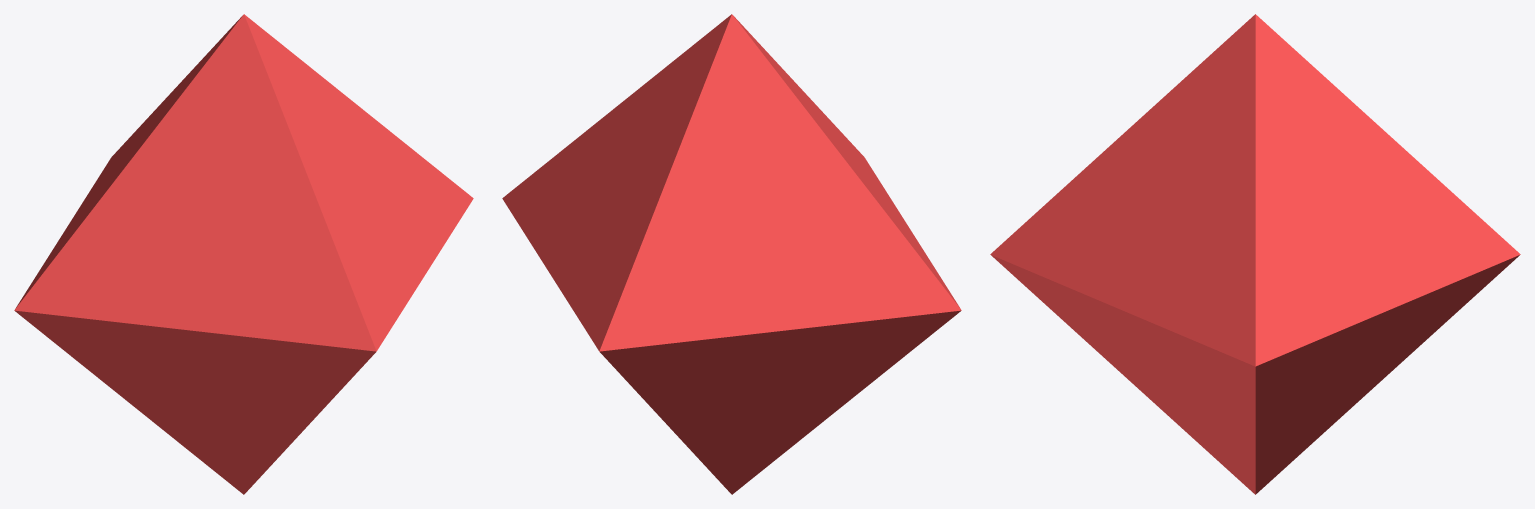
Rendered from dimond.fbx.
The picture shows the model from 3 angles, left to right: view 1: azimuth 30°, elevation 25°; view 2: azimuth 150°, elevation 25°; view 3: azimuth 270°, elevation 25°; orthographic projection.
Parts seen in each view (by area): view 1: Layer0; view 2: Layer0; view 3: Layer0.
Part boxes in pixels (left/top/right/bottom): Layer0: left=14, top=14, right=473, bottom=494; Layer0: left=502, top=14, right=961, bottom=494; Layer0: left=990, top=14, right=1520, bottom=494.
Bounding box in the file's own units: 1 × 1 × 1.
